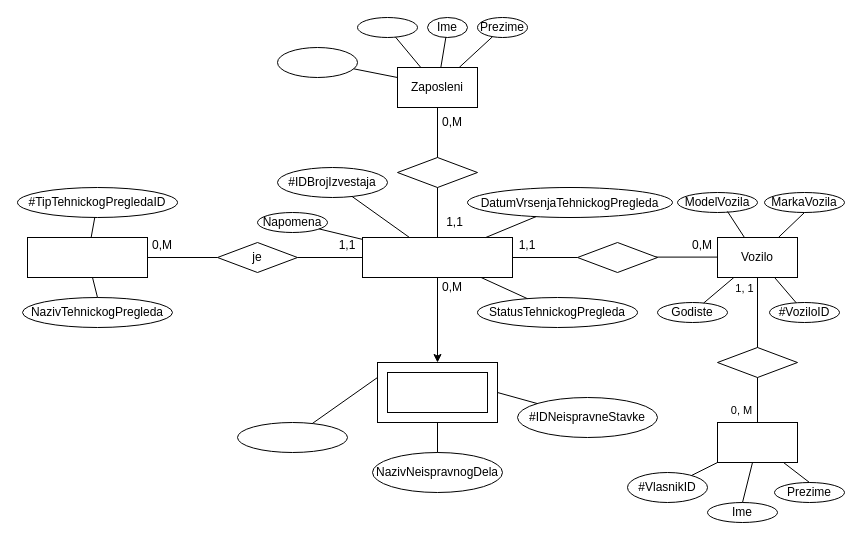
Image size: 862x540. Some labels were removed from this diagram. Each missing label, with the box of its shape:
#ZaposleniID: (276, 46, 358, 78)
IzvestajTehnickogPregleda: (362, 236, 512, 278)
JMBG: (356, 16, 418, 38)
NeispravneStavke: (386, 372, 488, 412)
odnosi: (576, 242, 658, 272)
OpisNeispravnosti: (236, 422, 348, 452)
poseduje: (716, 346, 798, 378)
potpisuje: (396, 156, 478, 188)
TipTehnickogPregleda: (26, 236, 148, 278)
Vlasnik: (716, 422, 798, 462)
